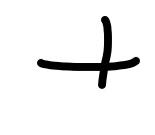plus: (37, 16, 139, 89)
